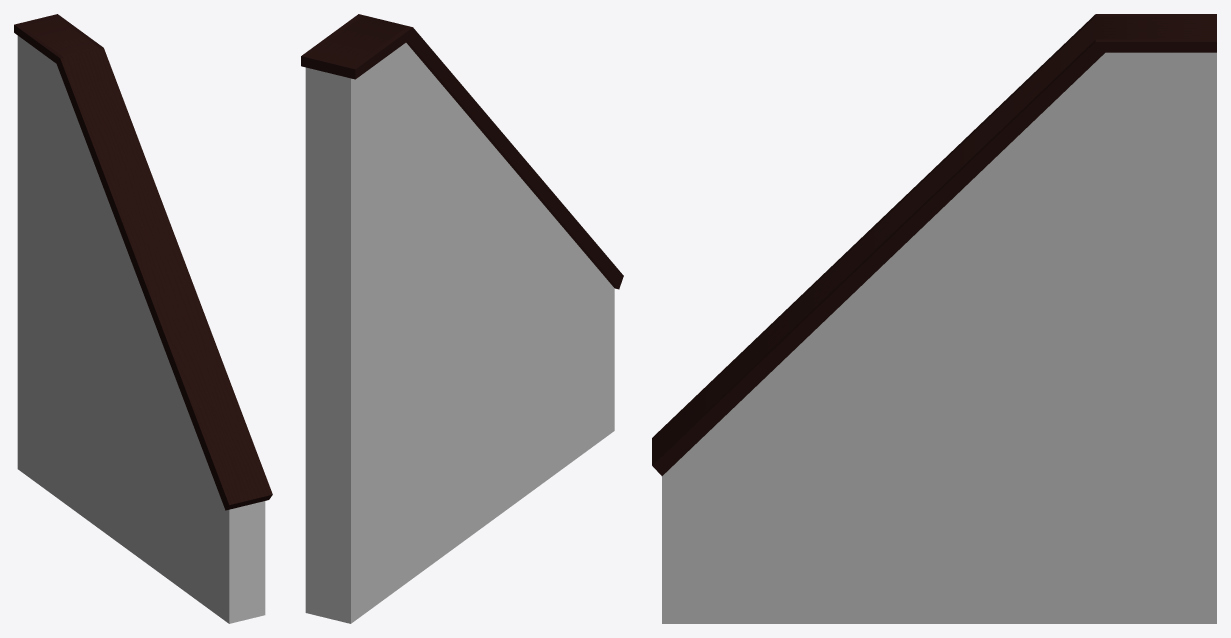
File: Railing_Yellow_03.FBX
3 views of the same model, side by side, from view 1: azimuth 30°, elevation 25°; view 2: azimuth 150°, elevation 25°; view 3: azimuth 270°, elevation 25° (orthographic). The views are drawn at different scales.
Visible parts, largest first — view 1: Stair_Rail_Wall_5m; view 2: Stair_Rail_Wall_5m; view 3: Stair_Rail_Wall_5m.
Part boxes in pixels (x1,y1,x2,y2): Stair_Rail_Wall_5m: [14, 14, 272, 623]; Stair_Rail_Wall_5m: [301, 14, 623, 623]; Stair_Rail_Wall_5m: [652, 14, 1216, 623].
Bounding box in the file's own units: 2367 × 23113 × 20240.
